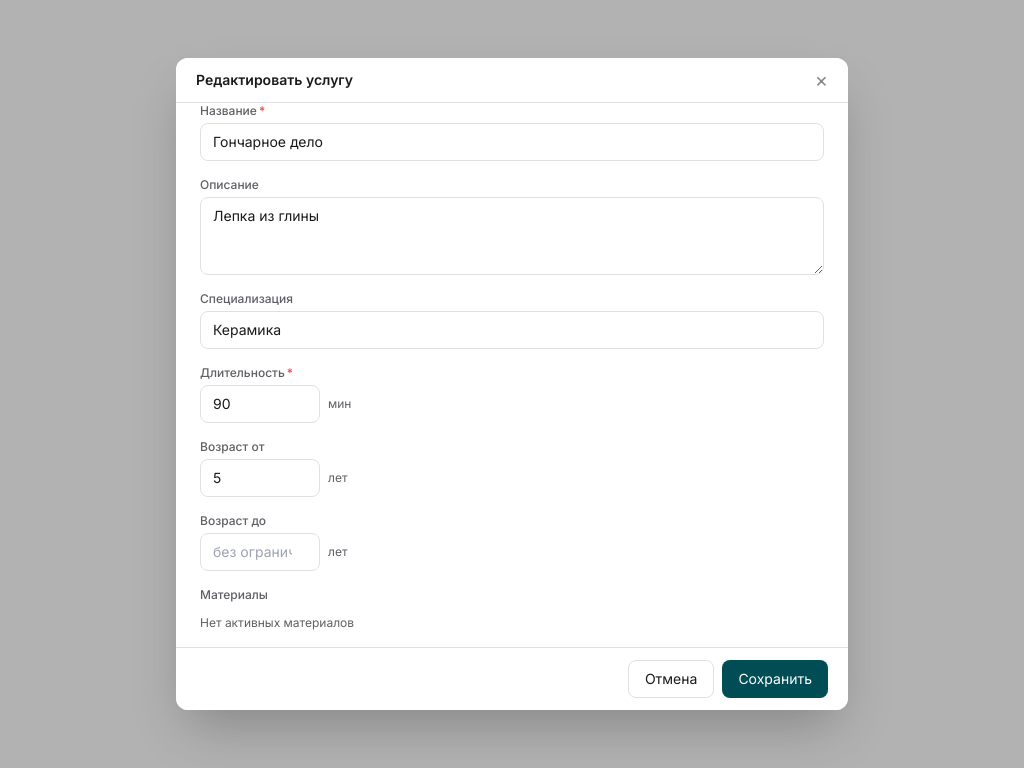
Test: ServiceModal — edit service with max_age null (GH #203 §4.3) › cross-rule: «от = 10, до = 5» → both errors, no submit
Replace the text in the number field labelled "Возраст от" with "10" at (260, 478), box left=200, top=459, right=320, bottom=497
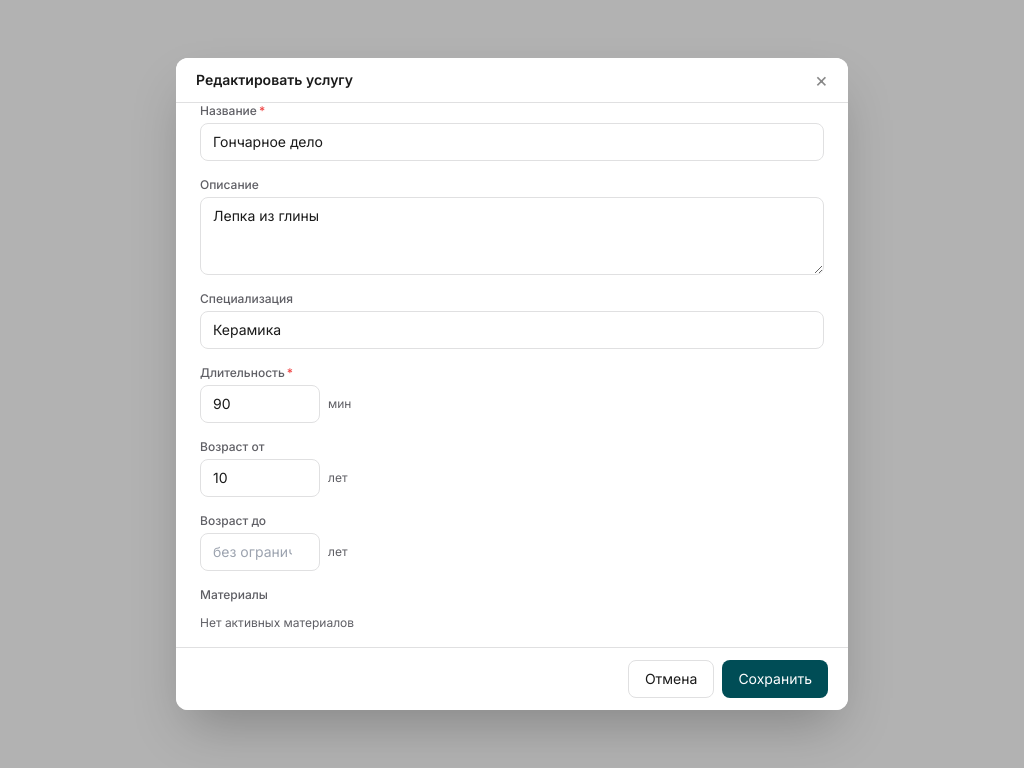
Type "5" into the number field labelled "Возраст до" at (260, 552), box left=200, top=533, right=320, bottom=571
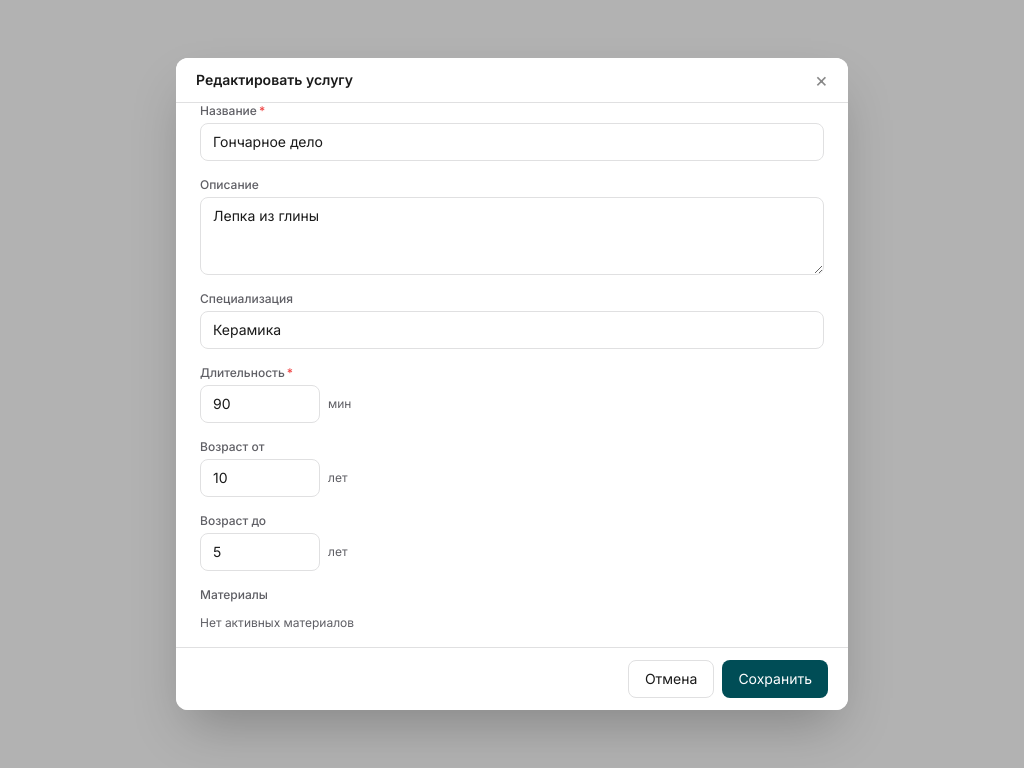
Click the button "Сохранить" at (775, 679), box left=722, top=660, right=828, bottom=698
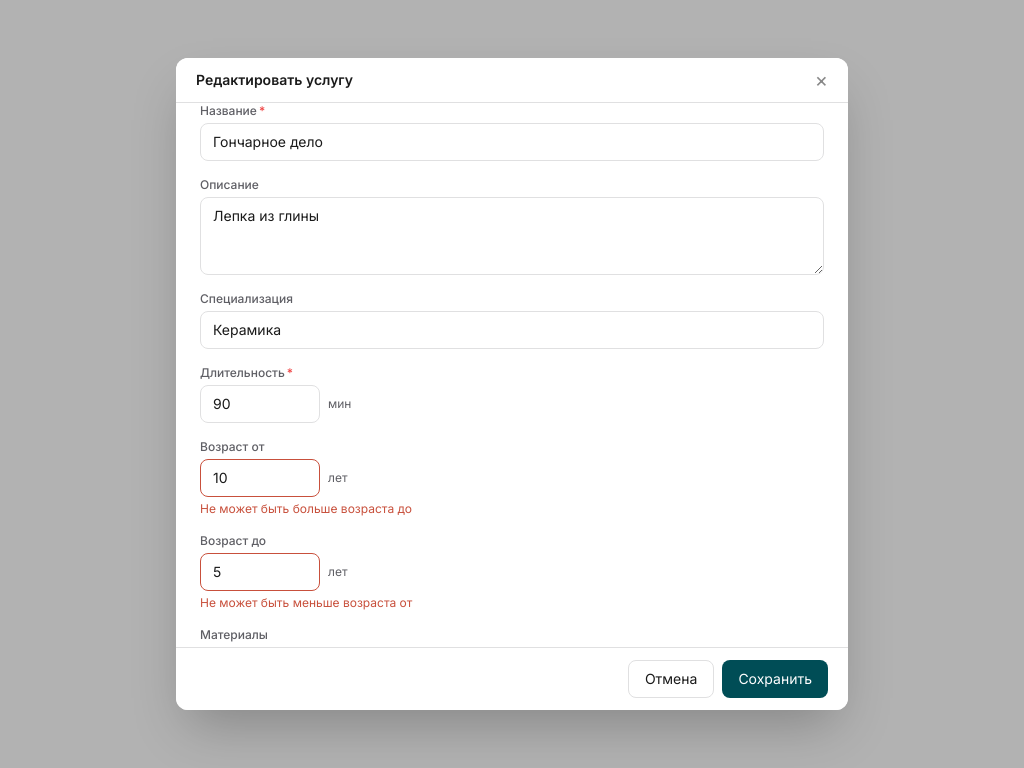
Result: the text "Не может быть больше возраста до" is shown at left=200, top=501, right=412, bottom=516
Result: the text "Не может быть меньше возраста от" is shown at left=200, top=595, right=412, bottom=610
